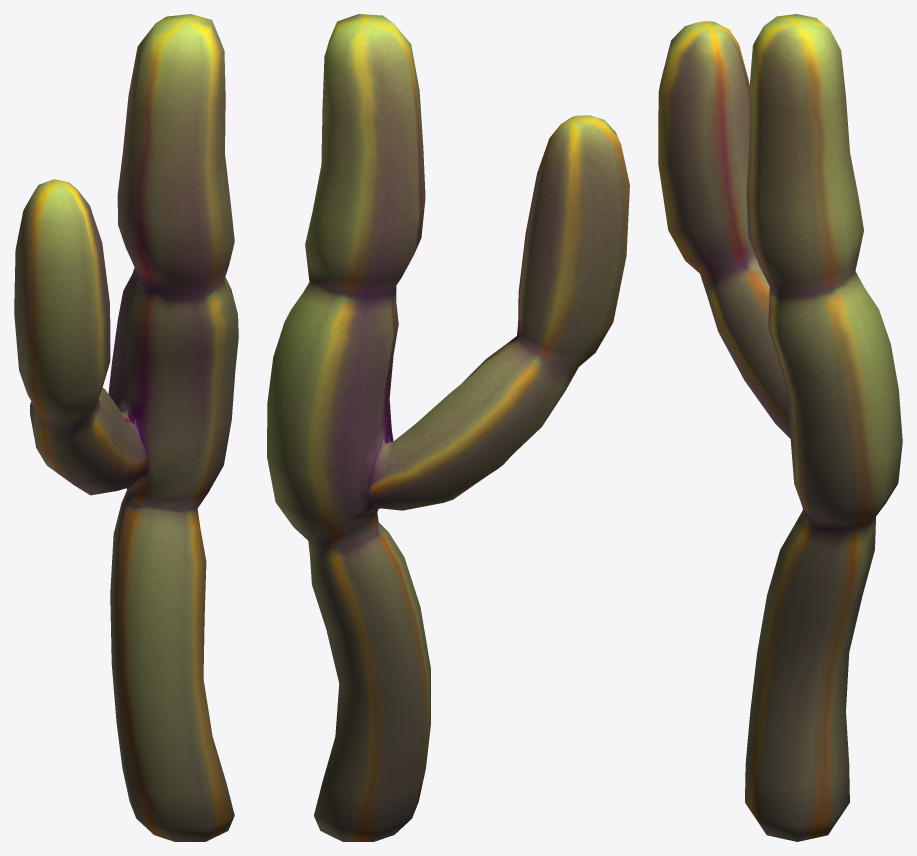
The model's file is mandacaru_2.fbx.
The picture shows the model from 3 angles, left to right: view 1: azimuth 30°, elevation 25°; view 2: azimuth 150°, elevation 25°; view 3: azimuth 270°, elevation 25°; orthographic projection.
Parts seen in each view (by area): view 1: Cube.001; view 2: Cube.001; view 3: Cube.001.
Part boxes in pixels (x1,y1,x2,y2): Cube.001: (14,14,238,841); Cube.001: (267,14,629,841); Cube.001: (658,14,902,841).
Bounding box in the file's own units: 347 × 969 × 266.
